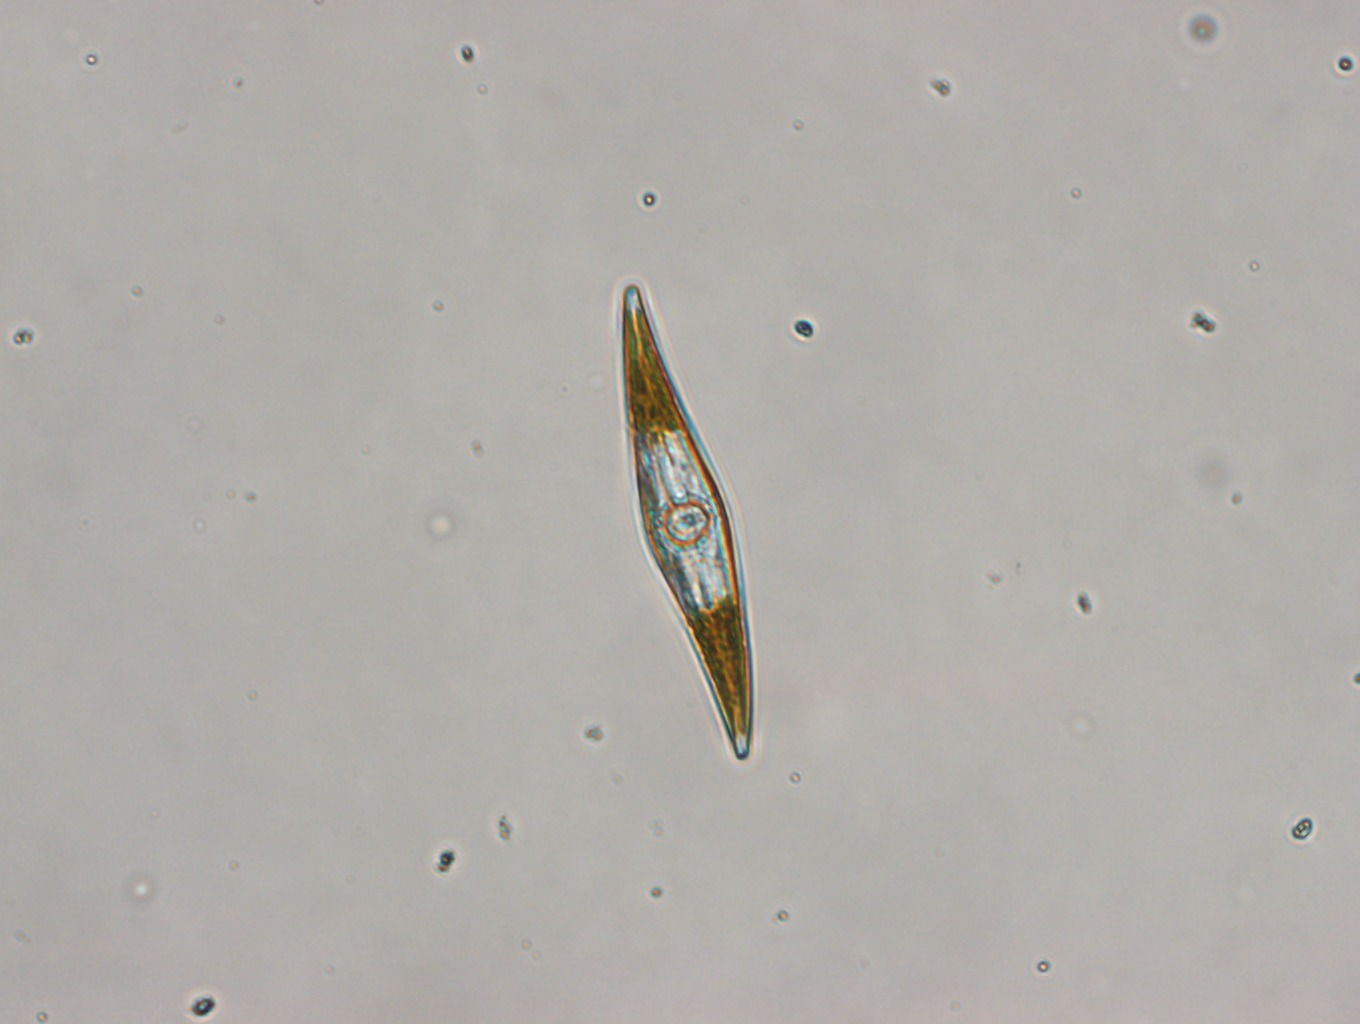pleurosigma pelagicum: (616, 280, 755, 763)
